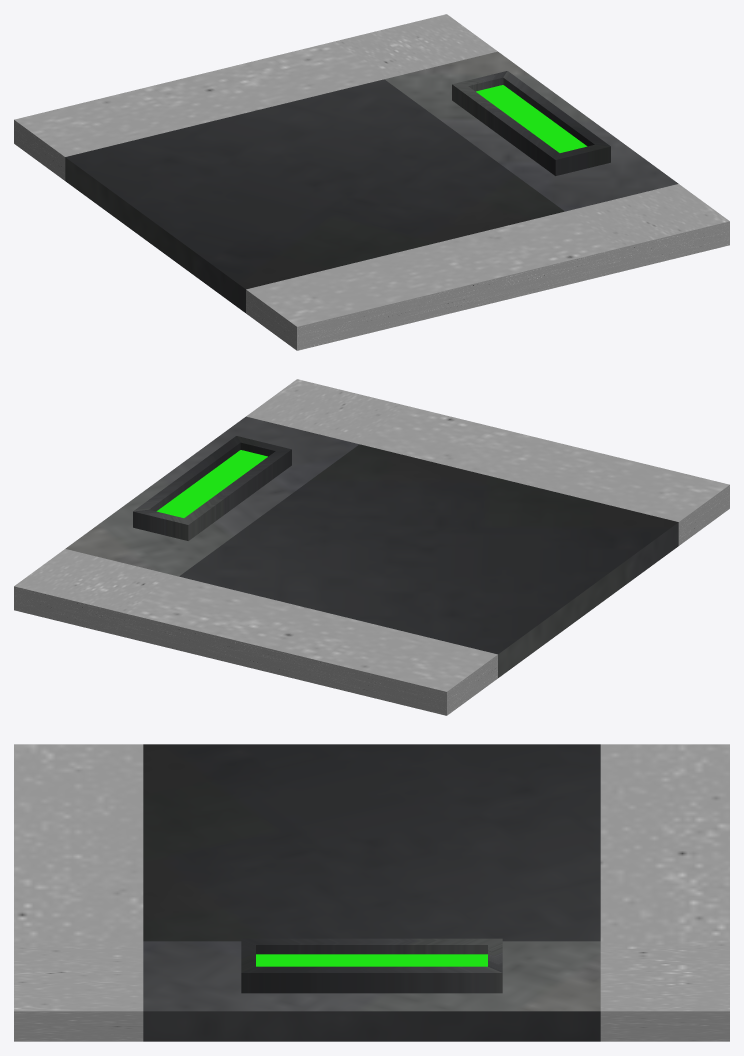
File: wage.FBX
The picture shows the model from 3 angles, top to bottom: view 1: azimuth 30°, elevation 25°; view 2: azimuth 150°, elevation 25°; view 3: azimuth 270°, elevation 25°; orthographic projection. The views are drawn at different scales.
Visible parts, largest first — view 1: Object001, Box001, Object002, Object003; view 2: Object001, Box001, Object002, Object003; view 3: Object001, Box001, Object002, Object003.
Part boxes in pixels (x1,y1,x2,y2): Object001: [65, 51, 678, 312]; Box001: [14, 14, 729, 350]; Object002: [452, 71, 610, 175]; Object003: [476, 85, 587, 152]; Object001: [65, 416, 678, 677]; Box001: [14, 379, 729, 715]; Object002: [133, 436, 291, 540]; Object003: [156, 450, 267, 517]; Object001: [143, 744, 600, 1041]; Box001: [14, 744, 729, 1041]; Object002: [241, 938, 502, 993]; Object003: [256, 954, 487, 966].
Bounding box in the file's own units: 191 × 19.4 × 216.
3 materials, 3 textured.
